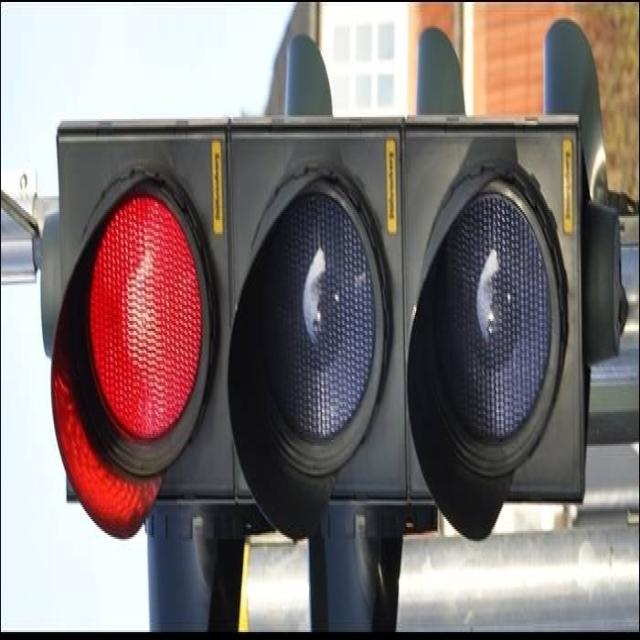red_light: (49, 133, 596, 508)
